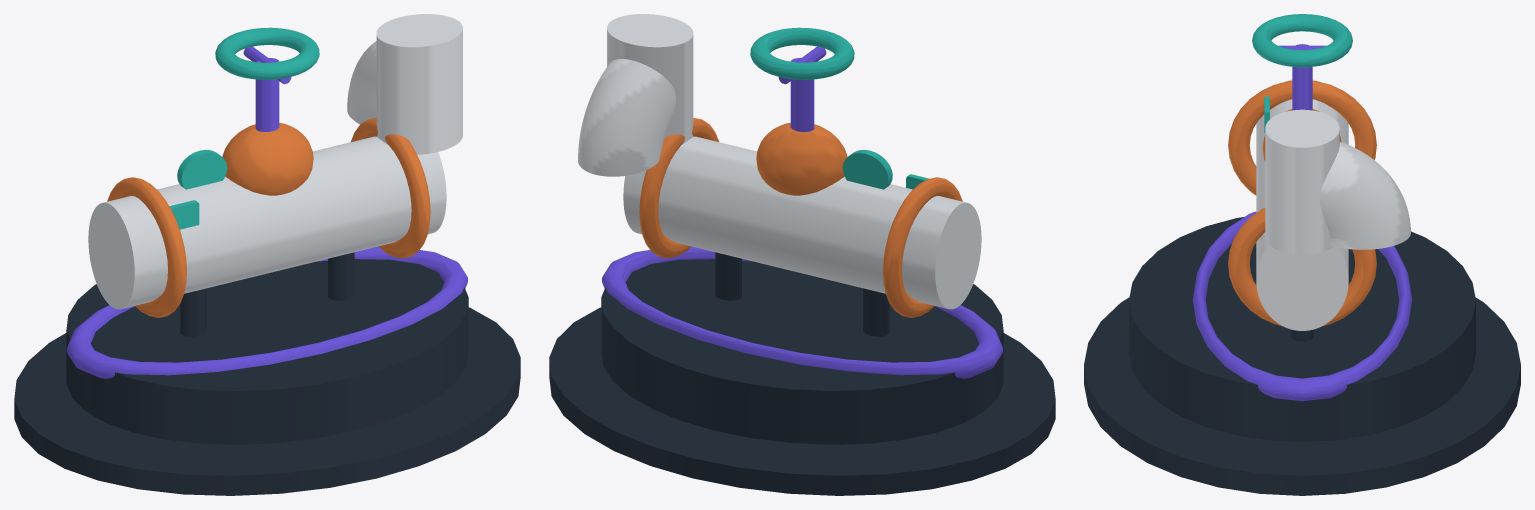
Rendered from 0757_先秦图鉴_抛石机.glb.
3 views of the same model, side by side, from view 1: azimuth 30°, elevation 25°; view 2: azimuth 150°, elevation 25°; view 3: azimuth 270°, elevation 25° (orthographic).
Parts seen in each view (by area): view 1: card_0757; view 2: card_0757; view 3: card_0757.
Part boxes in pixels (x1,y1,x2,y2): card_0757: (14, 14, 520, 495); card_0757: (549, 14, 1055, 495); card_0757: (1084, 14, 1520, 495).
Size of the model in its own units: 1.36 by 1 by 1.13.
